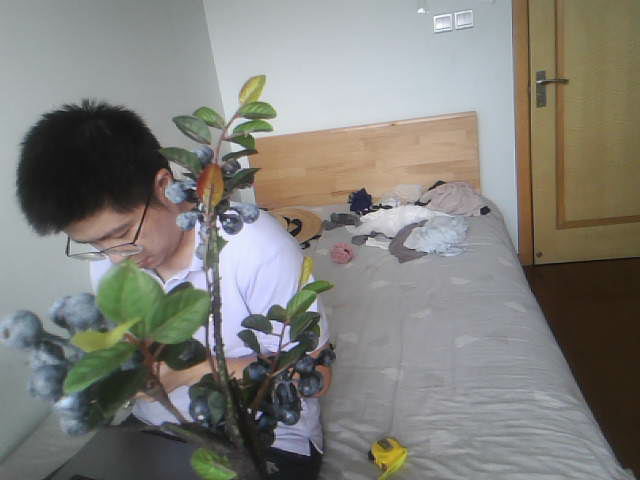blueberry: (50, 280, 99, 330), (5, 303, 41, 356), (24, 374, 66, 402), (271, 375, 301, 411), (53, 409, 89, 435), (190, 399, 215, 429), (175, 204, 197, 236), (237, 360, 264, 385), (166, 178, 186, 208), (190, 142, 208, 165), (234, 204, 258, 221), (221, 216, 240, 235), (190, 379, 209, 398), (317, 347, 336, 366), (279, 410, 308, 422), (292, 359, 312, 375), (220, 157, 237, 171), (307, 380, 320, 395)
